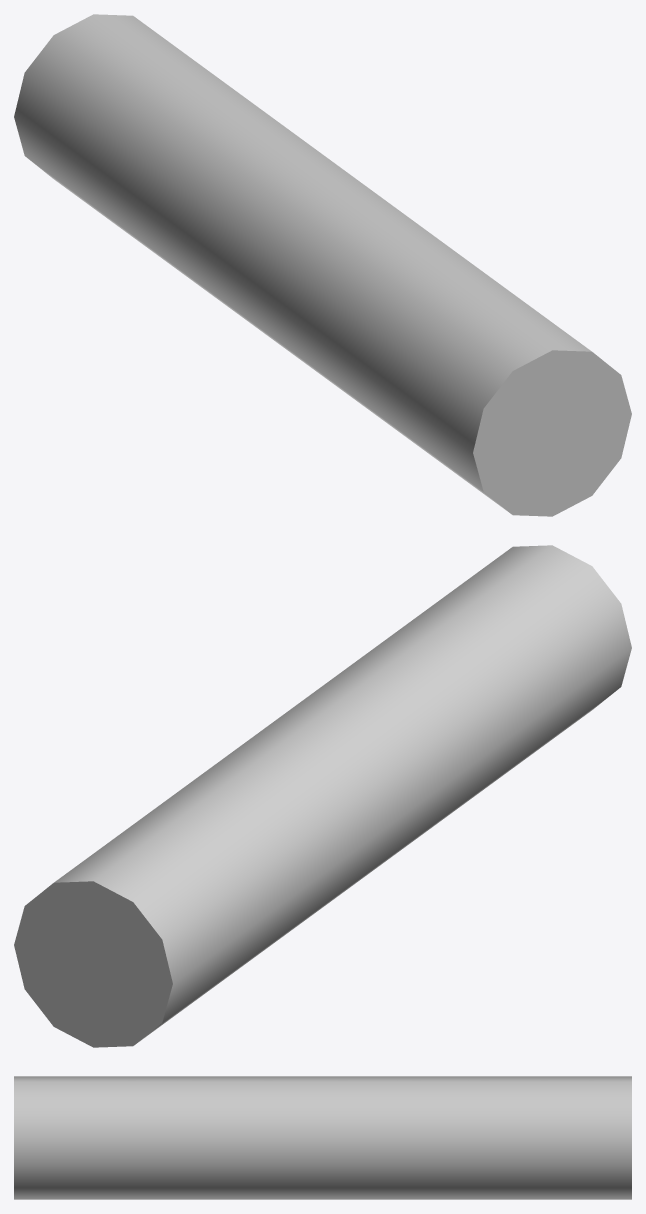
The model's file is PipeStraight_40x40x8.fbx.
3 views of the same model, one above another, from view 1: azimuth 30°, elevation 25°; view 2: azimuth 150°, elevation 25°; view 3: azimuth 270°, elevation 25° (orthographic). The views are drawn at different scales.
Parts seen in each view (by area): view 1: PipeStraight_40x40x8; view 2: PipeStraight_40x40x8; view 3: PipeStraight_40x40x8.
Part boxes in pixels (left/top/right/bottom): PipeStraight_40x40x8: left=14, top=14, right=631, bottom=516; PipeStraight_40x40x8: left=14, top=545, right=631, bottom=1047; PipeStraight_40x40x8: left=14, top=1076, right=631, bottom=1199.
Size of the model in its own units: 8 by 8 by 40.
